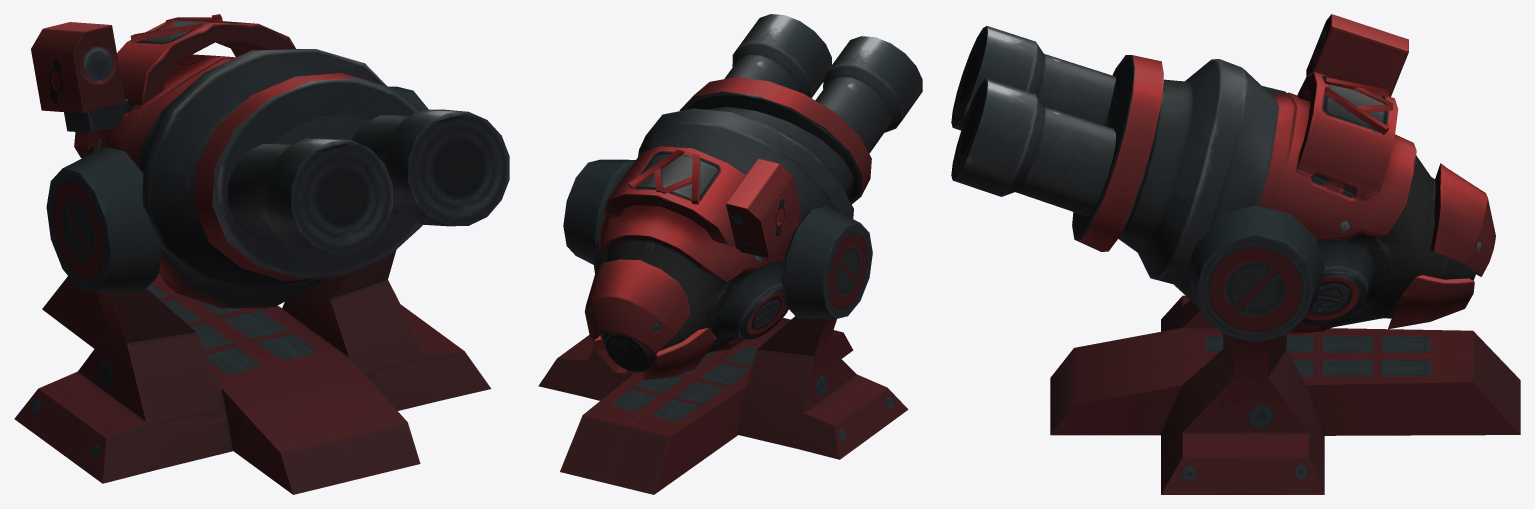
File: Cannon_03.FBX
The picture shows the model from 3 angles, left to right: view 1: azimuth 30°, elevation 25°; view 2: azimuth 150°, elevation 25°; view 3: azimuth 270°, elevation 25°; orthographic projection. The views are drawn at different scales.
Visible parts, largest first — view 1: Turret, Base; view 2: Turret, Base; view 3: Turret, Base.
Boxes of the visible parts, box(x1,y1,x2,y2) form: Turret: box(31, 14, 509, 308); Base: box(14, 86, 491, 494); Turret: box(584, 14, 922, 379); Base: box(538, 159, 908, 494); Turret: box(951, 14, 1495, 333); Base: box(1050, 86, 1520, 494).
Size of the model in its own units: 125 by 117 by 172.
Materials: 1 (1 with a texture image).
